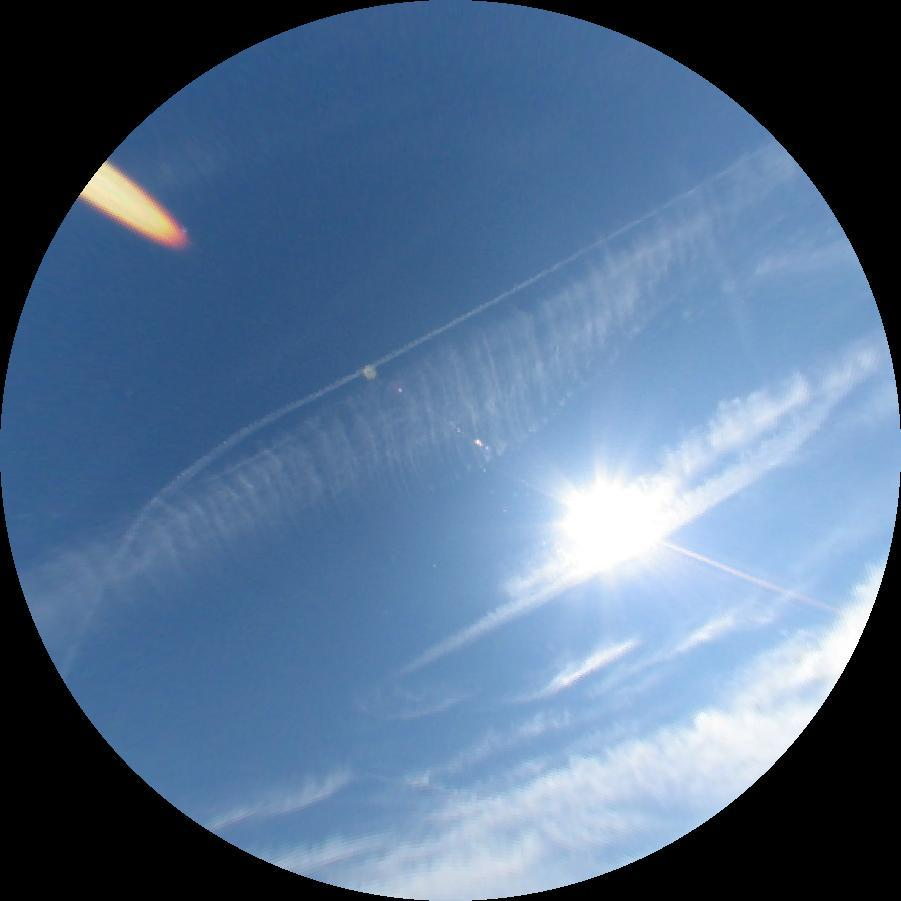contrail old: (6, 69, 782, 680)
contrail veryold: (4, 130, 858, 699), (390, 372, 884, 711), (480, 312, 901, 602), (567, 494, 659, 568), (703, 235, 752, 331), (751, 236, 858, 279)
parasite: (655, 538, 843, 616)
